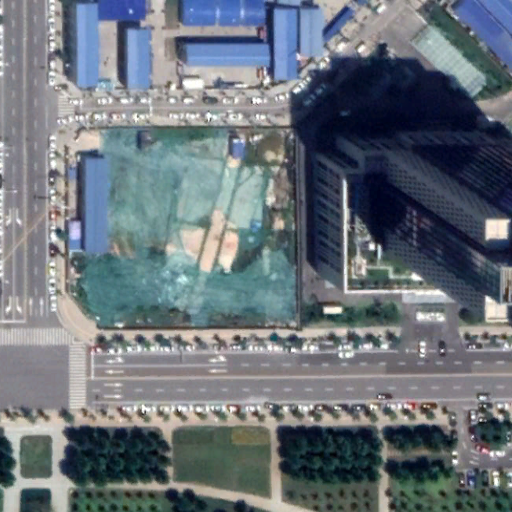cw: (78, 125, 302, 326)
